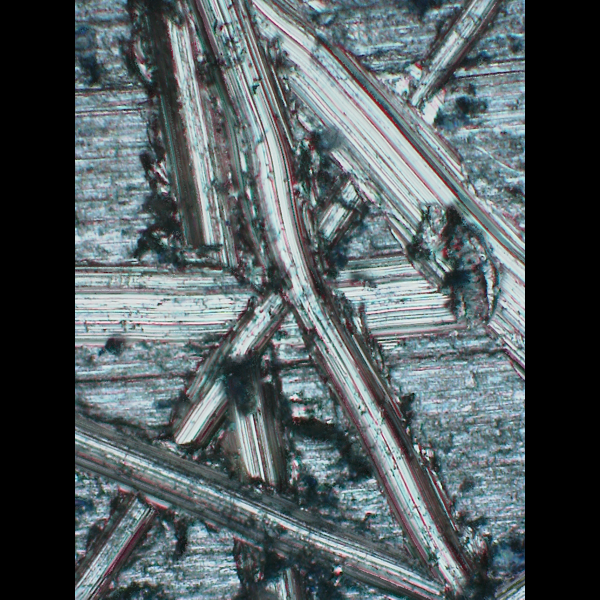d: (191, 2, 478, 599), (261, 0, 524, 394), (77, 391, 450, 600), (139, 2, 239, 274)
